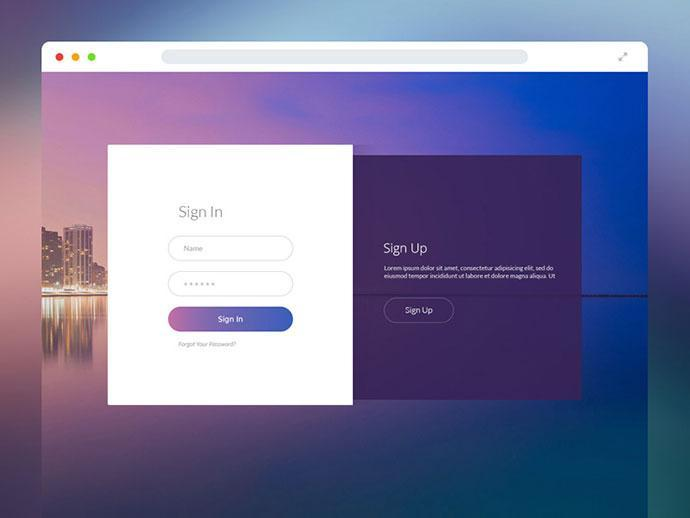button: (169, 308, 295, 332), (384, 299, 457, 324)
input: (169, 234, 296, 263), (169, 272, 294, 297)
label: (380, 240, 431, 256), (179, 205, 224, 221), (175, 339, 238, 349)
